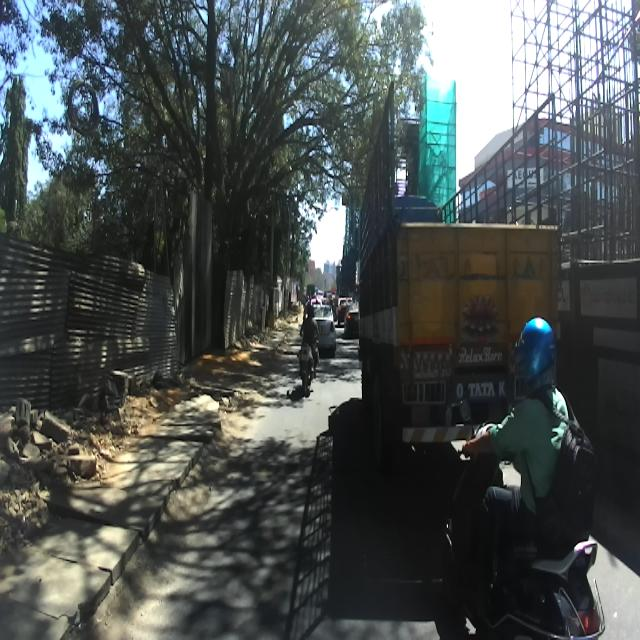motorcycle ahead at: (508, 539, 612, 640)
truck ahead at: (353, 82, 571, 424)
